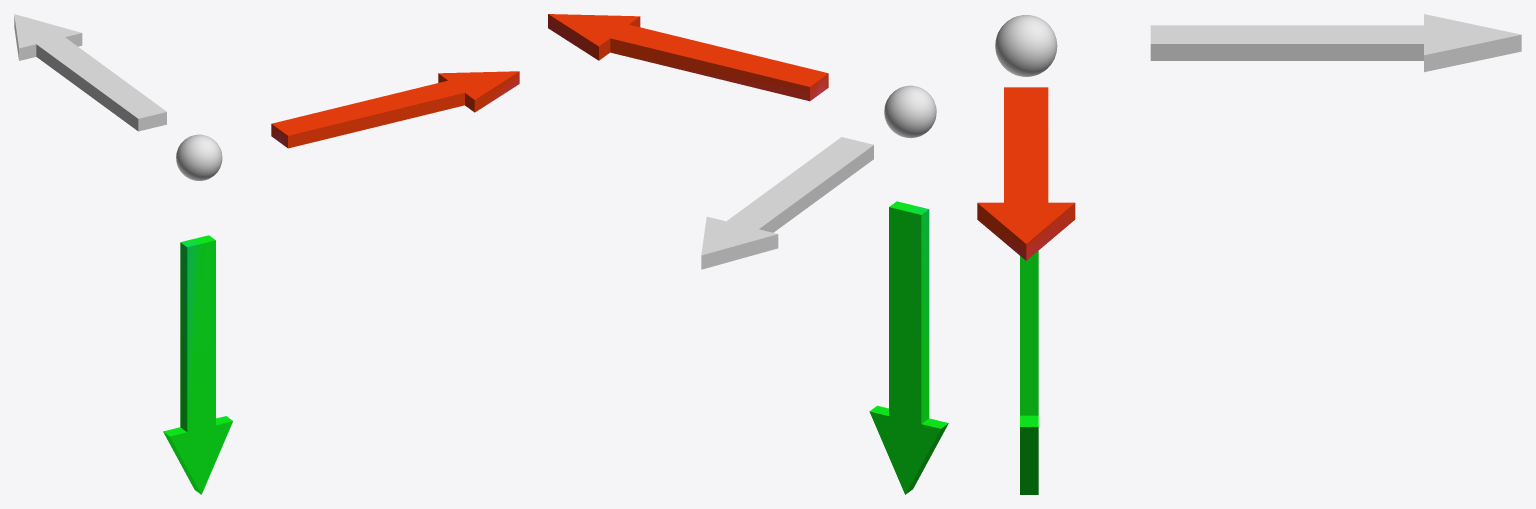
Rendered from OriginMarker.fbx.
The picture shows the model from 3 angles, left to right: view 1: azimuth 30°, elevation 25°; view 2: azimuth 150°, elevation 25°; view 3: azimuth 270°, elevation 25°; orthographic projection. The views are drawn at different scales.
Visible parts, largest first — view 1: 平面, 平面.002, 平面.001, 球; view 2: 平面, 平面.002, 平面.001, 球; view 3: 平面.001, 平面.002, 平面, 球.
Part boxes in pixels (x1,y1,x2,y2): 平面: [163, 235, 232, 494]; 平面.002: [271, 71, 519, 148]; 平面.001: [14, 14, 166, 131]; 球: [176, 134, 222, 180]; 平面: [869, 201, 948, 494]; 平面.002: [548, 14, 828, 101]; 平面.001: [701, 137, 873, 269]; 球: [884, 85, 936, 138]; 平面.001: [1150, 14, 1521, 72]; 平面.002: [977, 87, 1075, 260]; 平面: [1020, 251, 1038, 494]; 球: [995, 15, 1057, 76].
Size of the model in its own units: 87.49 by 84.62 by 87.49.
